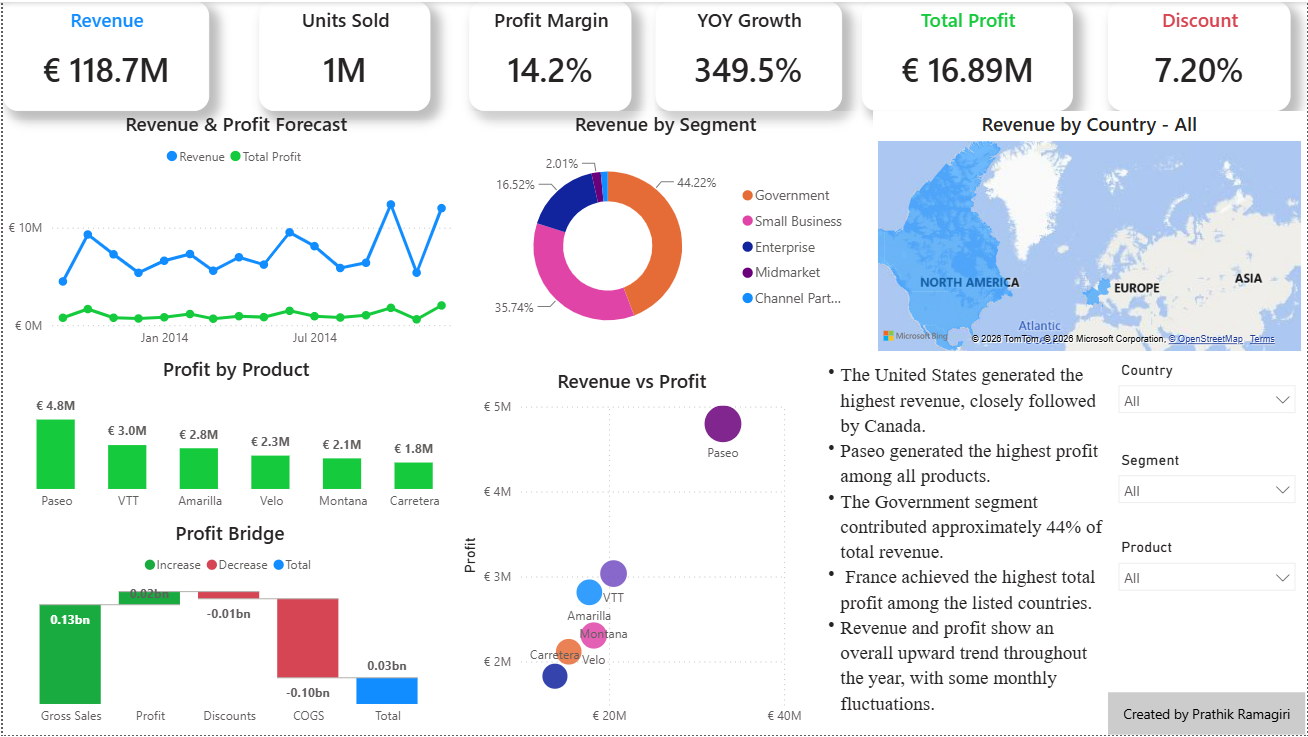

The dashboard page shown, as its layout file describes it:
{"tool":"powerbi","page":{"name":"Page 1","canvas":[1280,720],"ordinal":0},"visuals":[{"type":"cardVisual","title":"Discount ","fields":{"Data":["Financialss.Discount %"]},"box":[1084.7,0,179.1,108],"z":0},{"type":"cardVisual","title":"Profit  Margin","fields":{"Data":["Financialss.Profit Margin"]},"box":[457.7,0,159.5,108],"z":1000},{"type":"cardVisual","title":"Total Profit","fields":{"Data":["Financialss.Total Profit"]},"box":[842.9,0,207.4,108],"z":2000},{"type":"cardVisual","title":"Units Sold","fields":{"Data":["Financialss.Unitss Sold"]},"box":[251.5,0,168.1,108],"z":3000},{"type":"cardVisual","title":"YOY Growth","fields":{"Data":["Financialss.YoY Growth"]},"box":[640.5,0,182.8,108],"z":4000},{"type":"lineChart","title":"Revenue & Profit Forecast","fields":{"Category":["Financialss.Date.Variation.Date Hierarchy.Year","Financialss.Date.Variation.Date Hierarchy.Month"],"Y":["Financialss.Revenue","Financialss.Total Profit"]},"box":[0,108,457.7,240.5],"z":5000},{"type":"filledMap","fields":{"Category":["Financialss.Country"]},"box":[854,108,424.5,240.5],"z":6000},{"type":"clusteredColumnChart","title":"Profit by Product","fields":{"Category":["Financialss.Product"],"Y":["Financialss.Total Profit"]},"box":[0,348.5,457.7,160.7],"z":7000},{"type":"donutChart","fields":{"Category":["Financialss.Segment"],"Y":["Financialss.Revenue"]},"box":[457.7,108,385.3,240.5],"z":8000},{"type":"scatterChart","title":"Revenue vs Profit ","fields":{"X":["Financialss.Revenue"],"Y":["Financialss.Total Profit"],"Size":["Financialss.Unitss Sold"],"Series":["Financialss.Product"]},"box":[445.4,359.5,343.6,360.7],"z":9000},{"type":"waterfallChart","title":"Profit Bridge","fields":{"Category":["Waterfall.Step"],"Y":["Waterfall.Waterfall Value"]},"box":[0,509.2,445.4,211],"z":10000},{"type":"textbox","box":[789,348.5,295.7,371.8],"z":11000},{"type":"cardVisual","title":"Revenue","fields":{"Data":["Financialss.Revenue"]},"box":[0,0,202.5,108],"z":12000},{"type":"slicer","fields":{"Values":["Financialss.Country"]},"box":[1084.7,348.5,193.9,88.2],"z":13000,"group":"g1"},{"type":"slicer","fields":{"Values":["Financialss.Segment"]},"box":[1084.7,436.7,193.9,86.6],"z":14000,"group":"g1"},{"type":"slicer","fields":{"Values":["Financialss.Product"]},"box":[1084.7,523.3,193.9,91.5],"z":15000,"group":"g1"},{"type":"group","id":"g1","title":"Group 1","box":[1084.7,348.5,193.9,266.3],"z":15001},{"type":"shape","box":[1084.7,678.5,193.9,41.7],"z":15002}]}

Visuals, with their boxes in screenshot pixels (x1, y1, x2, y2), scaled from the page's 1280x720 canvas onto the 1308x737 screenshot:
"Discount " cardVisual: rect(1108, 0, 1291, 111)
"Profit  Margin" cardVisual: rect(468, 0, 631, 111)
"Total Profit" cardVisual: rect(861, 0, 1073, 111)
"Units Sold" cardVisual: rect(257, 0, 429, 111)
"YOY Growth" cardVisual: rect(655, 0, 841, 111)
"Revenue & Profit Forecast" lineChart: rect(0, 111, 468, 357)
filledMap - Financialss.Country: rect(873, 111, 1306, 357)
"Profit by Product" clusteredColumnChart: rect(0, 357, 468, 521)
donutChart - Financialss.Segment x Financialss.Revenue: rect(468, 111, 861, 357)
"Revenue vs Profit " scatterChart: rect(455, 368, 806, 736)
"Profit Bridge" waterfallChart: rect(0, 521, 455, 736)
textbox: rect(806, 357, 1108, 736)
"Revenue" cardVisual: rect(0, 0, 207, 111)
slicer - Financialss.Country: rect(1108, 357, 1307, 447)
slicer - Financialss.Segment: rect(1108, 447, 1307, 536)
slicer - Financialss.Product: rect(1108, 536, 1307, 629)
"Group 1" group: rect(1108, 357, 1307, 629)
shape: rect(1108, 695, 1307, 736)
